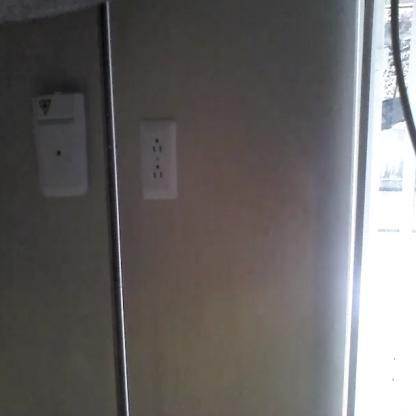OUTLET: (139, 118, 178, 200)
